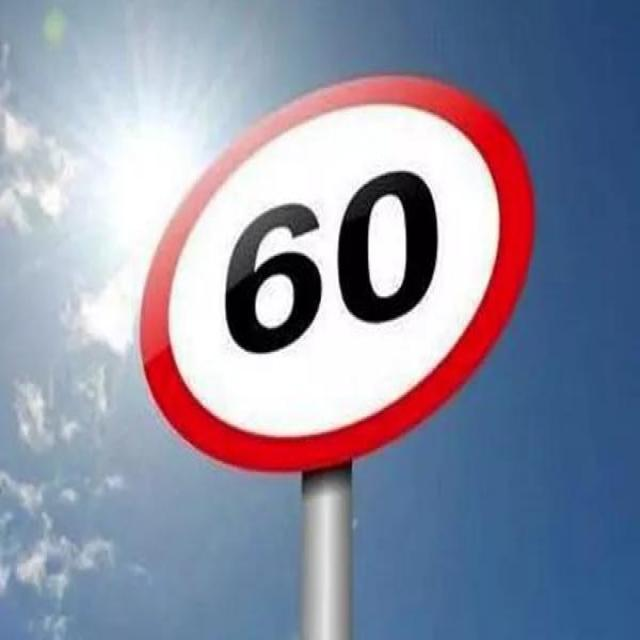speed limit 60: (137, 74, 535, 468)
